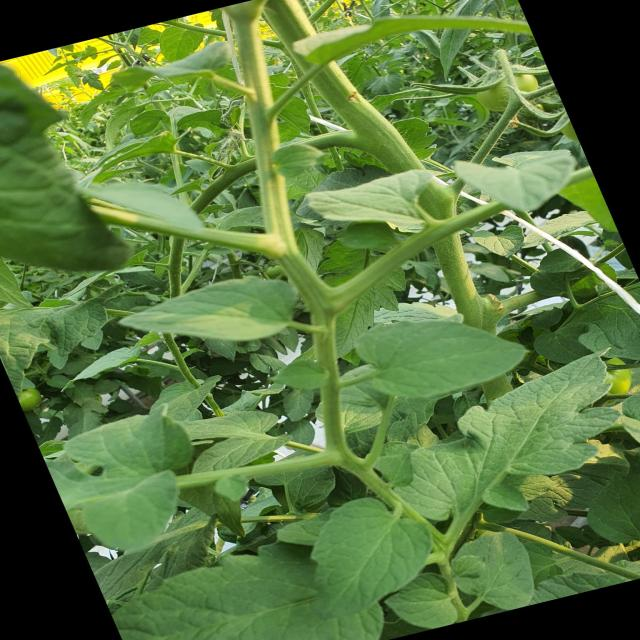Healthy Leaf: (407, 347, 631, 530), (292, 494, 443, 617), (109, 281, 314, 350), (349, 320, 526, 396)
